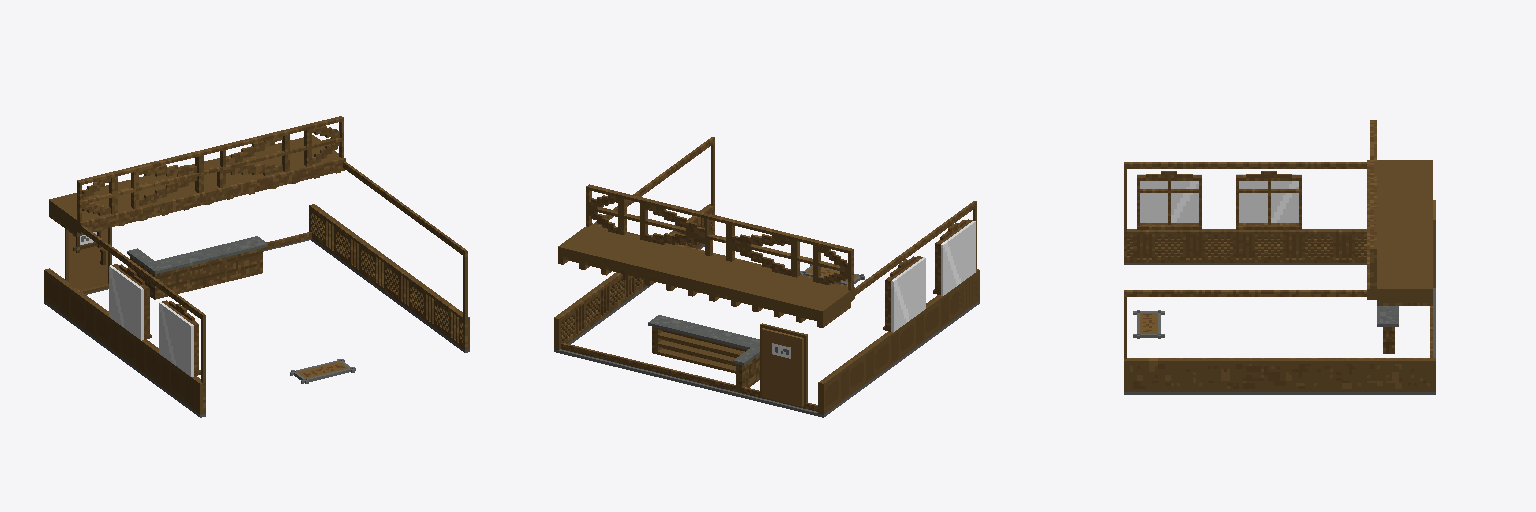
3 renders of one model, left to right at view 1: azimuth 30°, elevation 25°; view 2: azimuth 150°, elevation 25°; view 3: azimuth 270°, elevation 25°, orthographic.
Visible parts, largest first — view 1: object 1; view 2: object 1; view 3: object 1.
Part boxes in pixels (x1,y1,x2,y2): object 1: (44, 116, 469, 417); object 1: (554, 137, 979, 417); object 1: (1124, 120, 1435, 394).
Size of the model in its own units: 10.1 by 5.1 by 10.
Materials: 1 (1 with a texture image).